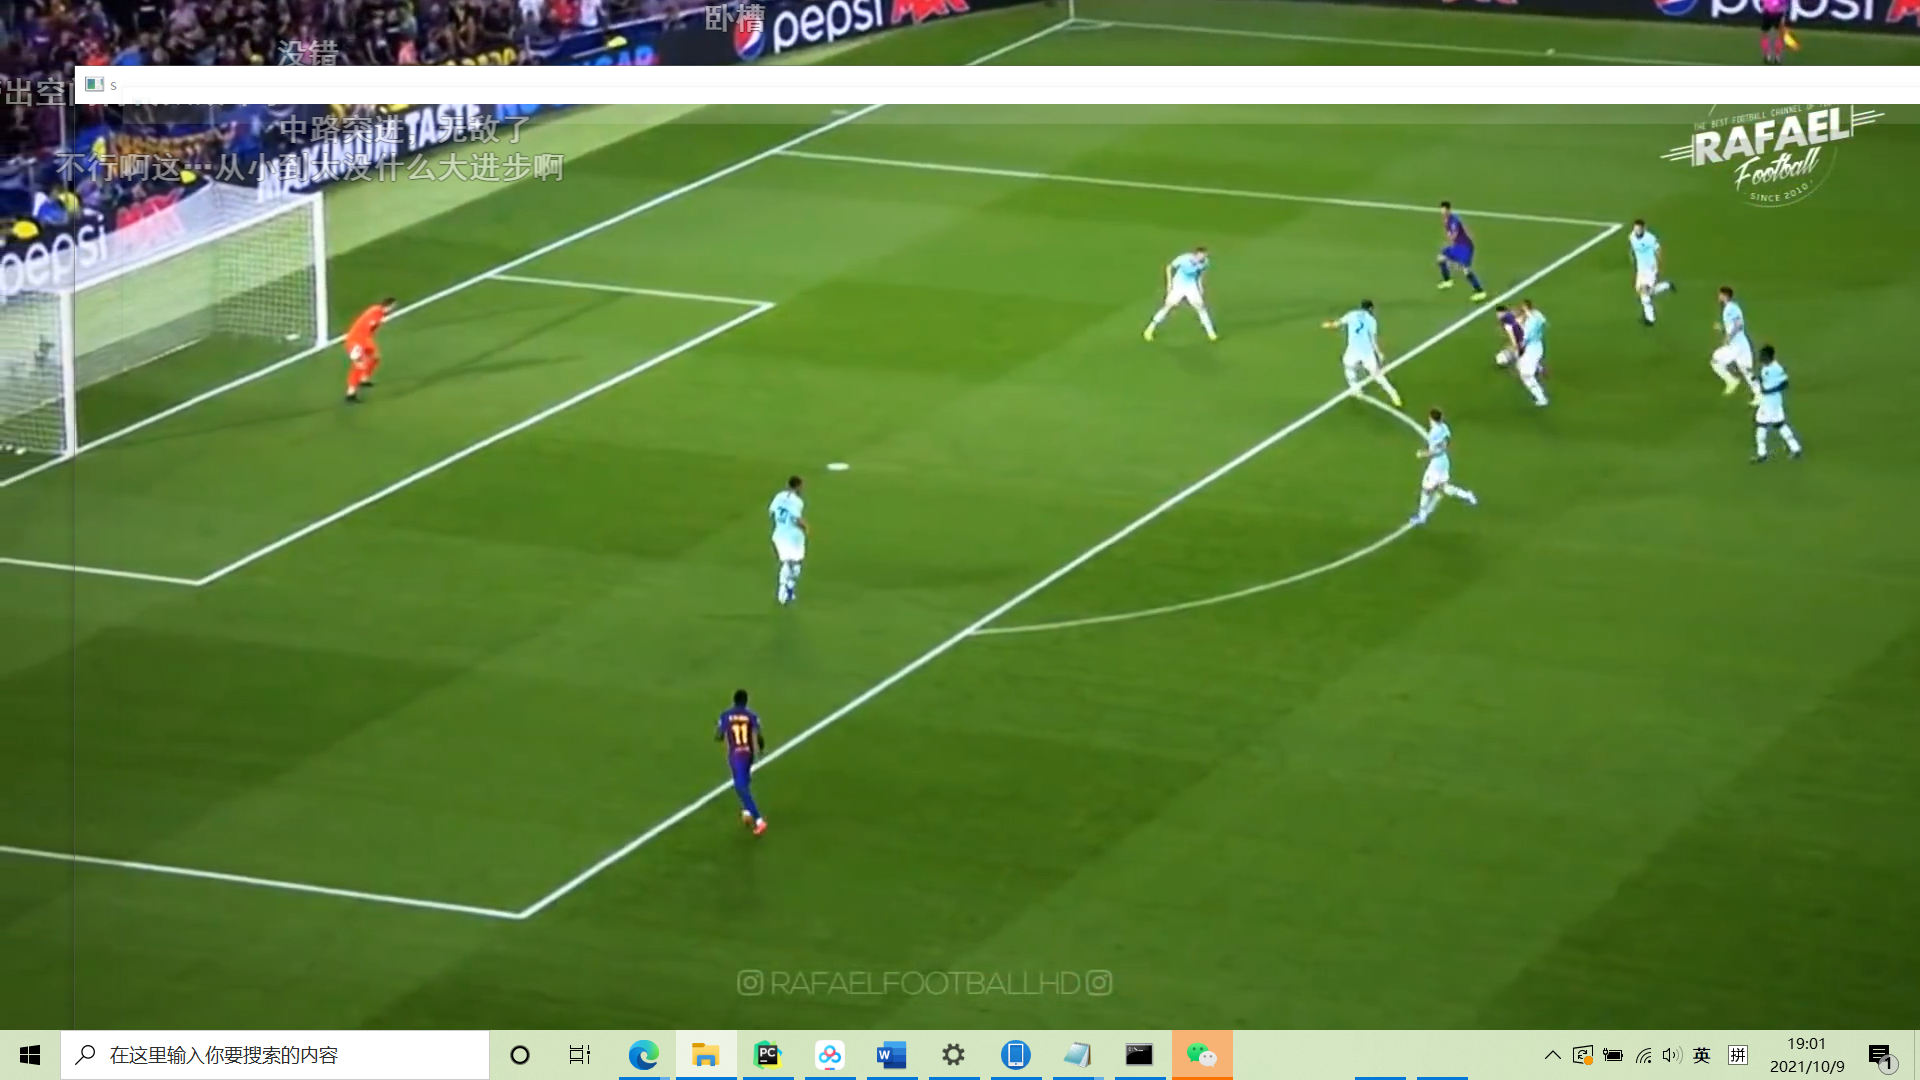ft: (1494, 349, 1511, 367)
